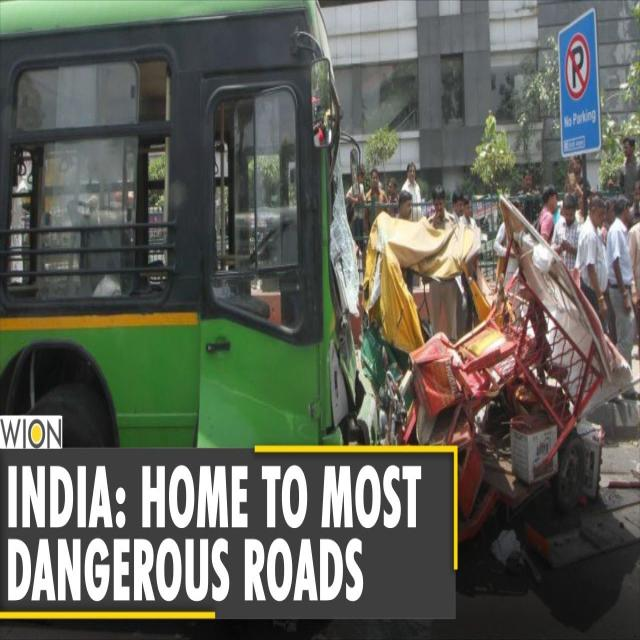accident: (0, 0, 375, 448), (379, 196, 632, 539), (361, 213, 492, 390)
